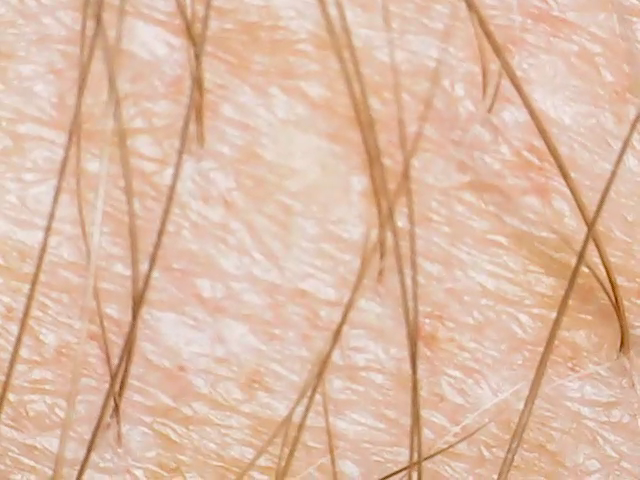folicle: (609, 330, 633, 364), (185, 129, 211, 156), (96, 412, 117, 437), (368, 268, 389, 289), (474, 91, 491, 110), (110, 434, 127, 452), (484, 103, 498, 121)
